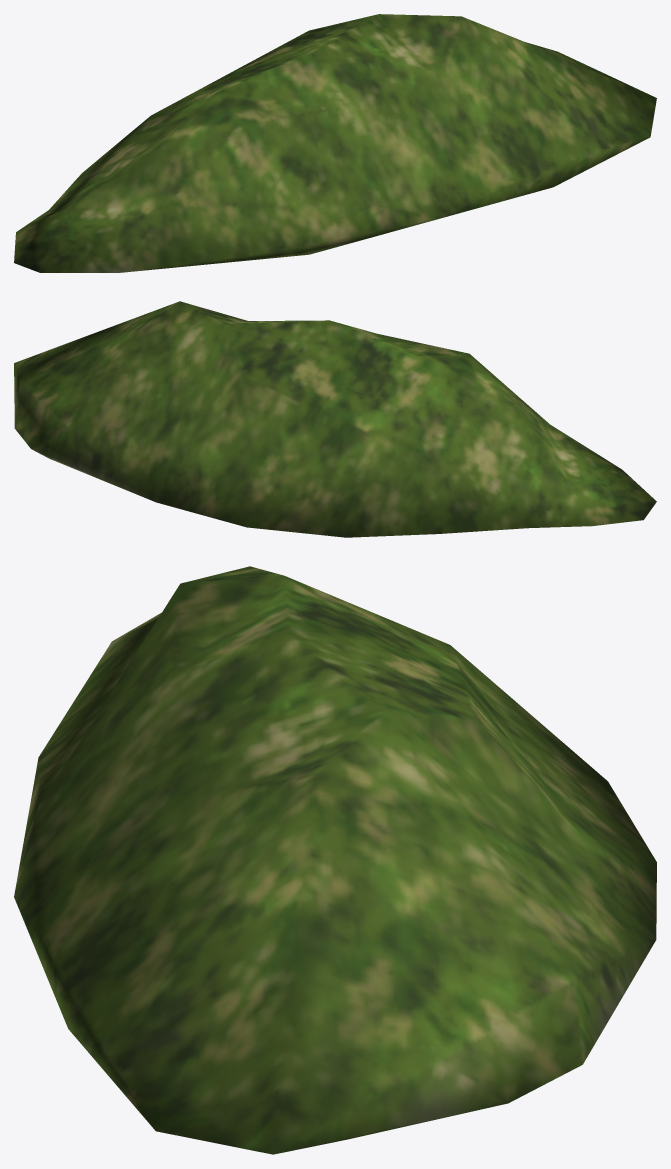
The model's file is land_rock_06.fbx.
3 views of the same model, one above another, from view 1: azimuth 30°, elevation 25°; view 2: azimuth 150°, elevation 25°; view 3: azimuth 270°, elevation 25° (orthographic). The views are drawn at different scales.
Parts seen in each view (by area): view 1: land_rock_06; view 2: land_rock_06; view 3: land_rock_06.
Part boxes in pixels (x1,y1,x2,y2): land_rock_06: (14, 14, 656, 272); land_rock_06: (14, 301, 656, 537); land_rock_06: (14, 566, 656, 1154).
Bounding box in the file's own units: 28.44 × 6.35 × 13.55.
